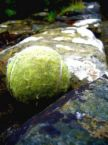tennis ball: (5, 45, 67, 103)
